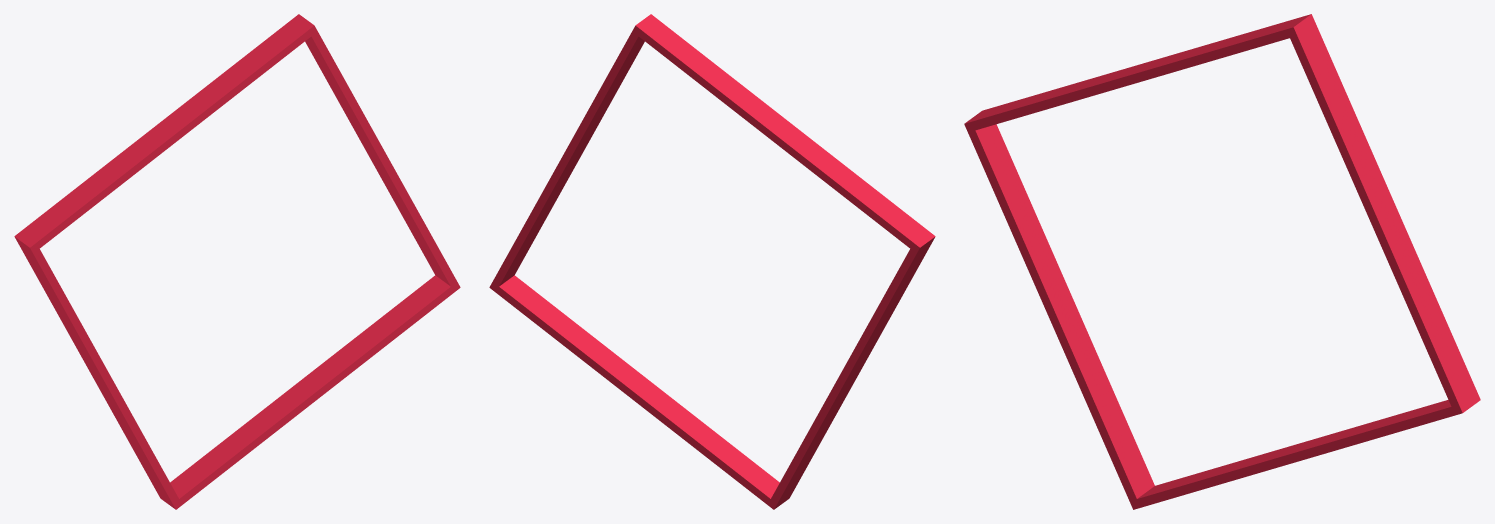
The model's file is tangram11.gltf.
The picture shows the model from 3 angles, left to right: view 1: azimuth 30°, elevation 25°; view 2: azimuth 150°, elevation 25°; view 3: azimuth 330°, elevation 25°; orthographic projection. The views are drawn at different scales.
Bounding box in the file's own units: 0.0954 × 0.0954 × 0.006.
